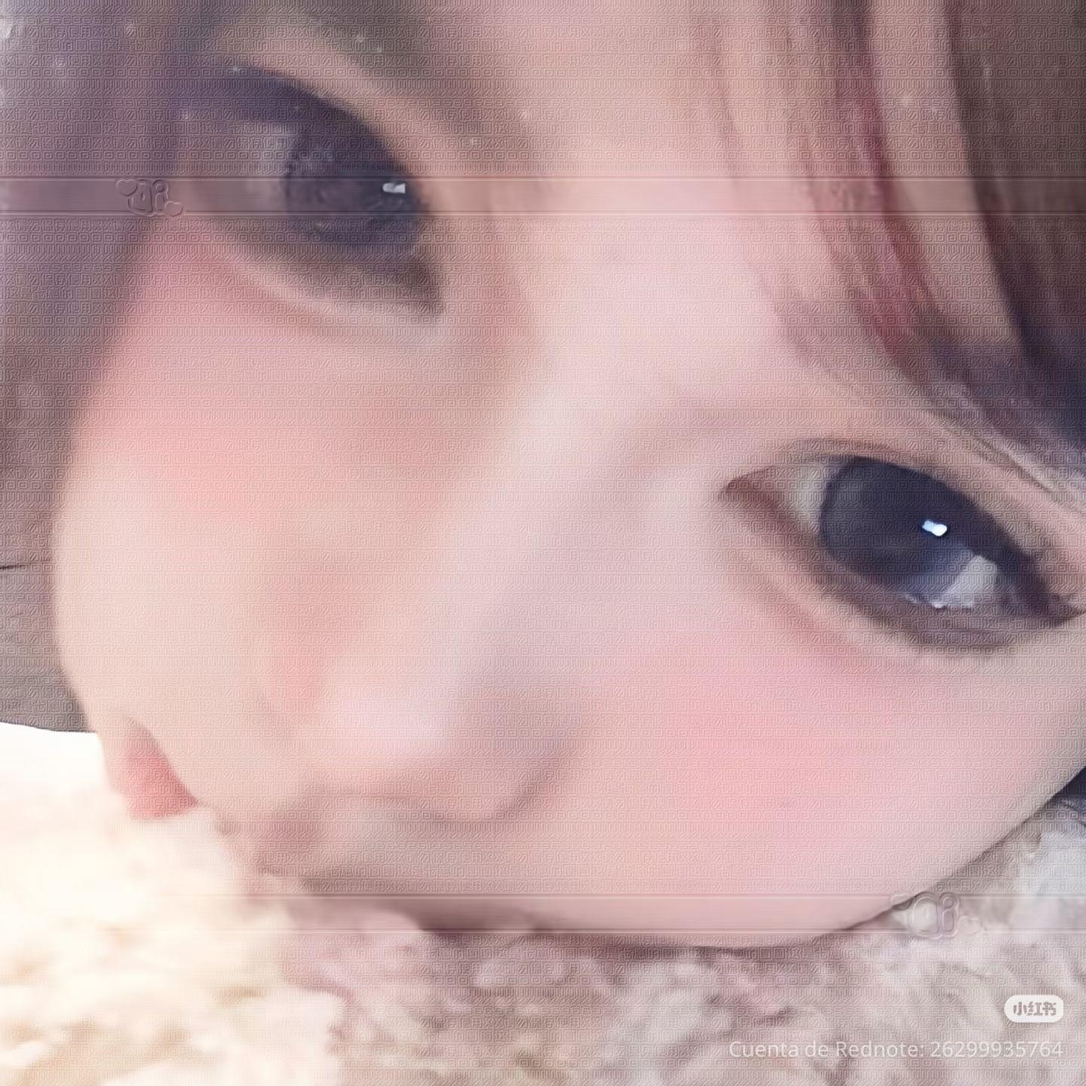non-dog: (2, 2, 1086, 1083)
